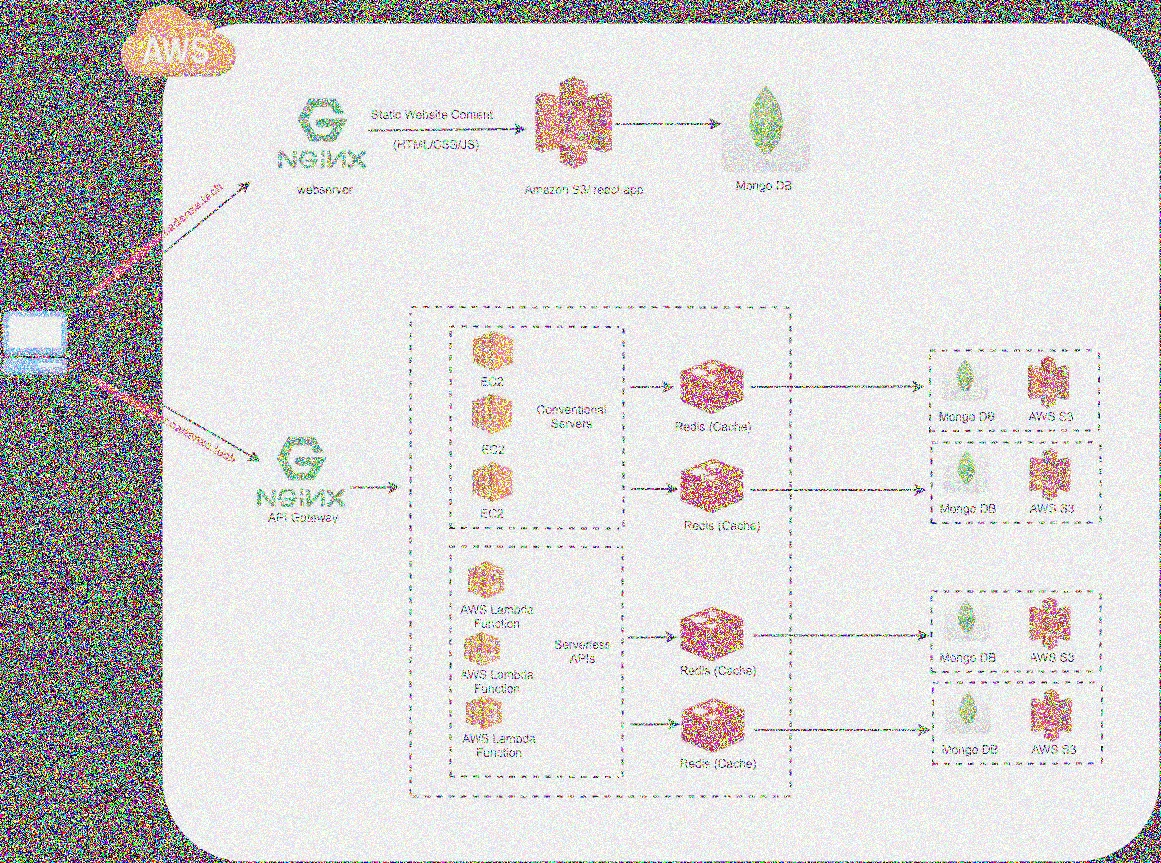EC2: (466, 391, 518, 435), (469, 328, 519, 373), (466, 461, 518, 503)
Lambda: (461, 554, 514, 602), (459, 692, 507, 731), (459, 631, 506, 669)
Mongo DB: (722, 83, 807, 173), (942, 348, 991, 404), (944, 591, 991, 647), (944, 684, 994, 735), (944, 441, 993, 493)
Redis: (675, 351, 749, 417), (676, 691, 749, 756), (673, 454, 751, 514), (676, 600, 750, 663)
S3: (524, 64, 624, 172), (1025, 590, 1079, 653), (1025, 682, 1080, 743), (1023, 350, 1075, 410), (1026, 445, 1079, 501)
aws: (114, 0, 243, 87)
